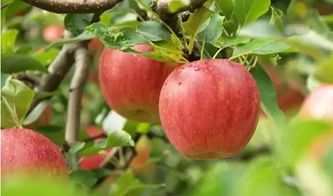apple: (157, 57, 264, 163)
obscured(1)_apple: (98, 37, 197, 125)
obscured(2)_apple: (1, 128, 70, 180)
